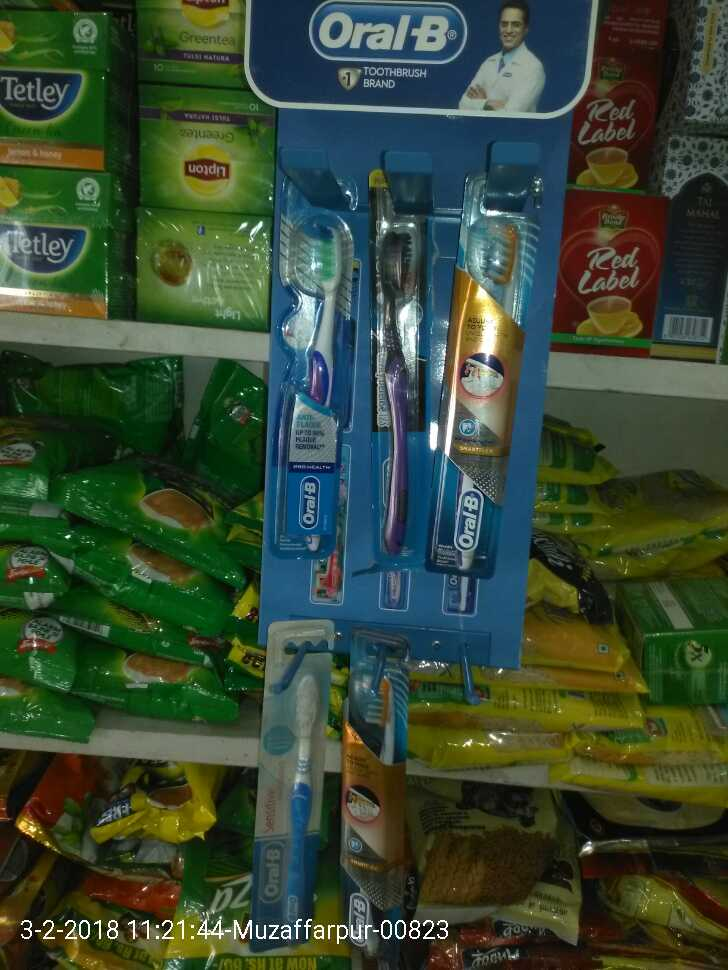oralb: (277, 178, 345, 563), (459, 180, 514, 595), (368, 178, 426, 570)
